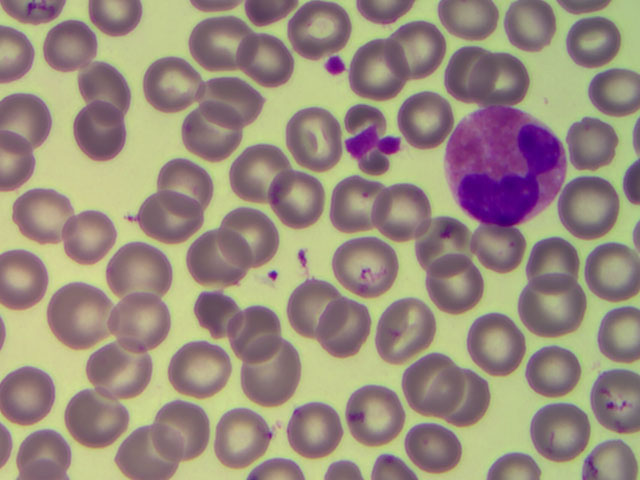Platelets: (341, 129, 381, 151), (322, 53, 347, 81), (381, 134, 403, 157)
RBC: (1, 88, 55, 156), (121, 421, 180, 480), (581, 421, 640, 480), (12, 421, 71, 480), (40, 17, 99, 75), (69, 55, 128, 113), (73, 106, 132, 164), (12, 186, 71, 244), (61, 208, 120, 266), (111, 240, 170, 298), (111, 292, 170, 350), (58, 285, 117, 343), (88, 347, 147, 405), (69, 384, 128, 442), (1, 362, 60, 420), (3, 254, 62, 312), (160, 341, 219, 399), (158, 397, 217, 455), (251, 352, 310, 410), (218, 303, 277, 361), (187, 290, 246, 348), (181, 232, 240, 290), (222, 208, 281, 266), (143, 189, 202, 247), (153, 161, 212, 219), (180, 103, 239, 161), (204, 71, 263, 129), (150, 56, 209, 114), (183, 17, 242, 75), (235, 30, 294, 88), (295, 3, 354, 61), (281, 107, 340, 165), (229, 145, 288, 203), (269, 171, 328, 229), (324, 173, 383, 231), (368, 186, 427, 244), (343, 239, 402, 297), (314, 304, 373, 362), (283, 273, 342, 331), (382, 296, 441, 354), (421, 262, 480, 320), (415, 222, 474, 280), (465, 216, 524, 274), (510, 230, 569, 288), (526, 283, 585, 341), (581, 247, 640, 305), (557, 180, 616, 238), (562, 108, 621, 166), (581, 55, 640, 113), (571, 15, 630, 73), (501, 3, 560, 61), (476, 55, 535, 113), (446, 45, 505, 103), (389, 23, 448, 81), (353, 44, 412, 102), (392, 90, 451, 148), (468, 316, 527, 374), (525, 343, 584, 401), (536, 392, 595, 450), (581, 378, 640, 436), (418, 414, 477, 472), (447, 373, 506, 431), (396, 346, 455, 404), (347, 382, 406, 440), (287, 400, 346, 458), (213, 410, 272, 468)
WBC: (447, 103, 563, 230)
